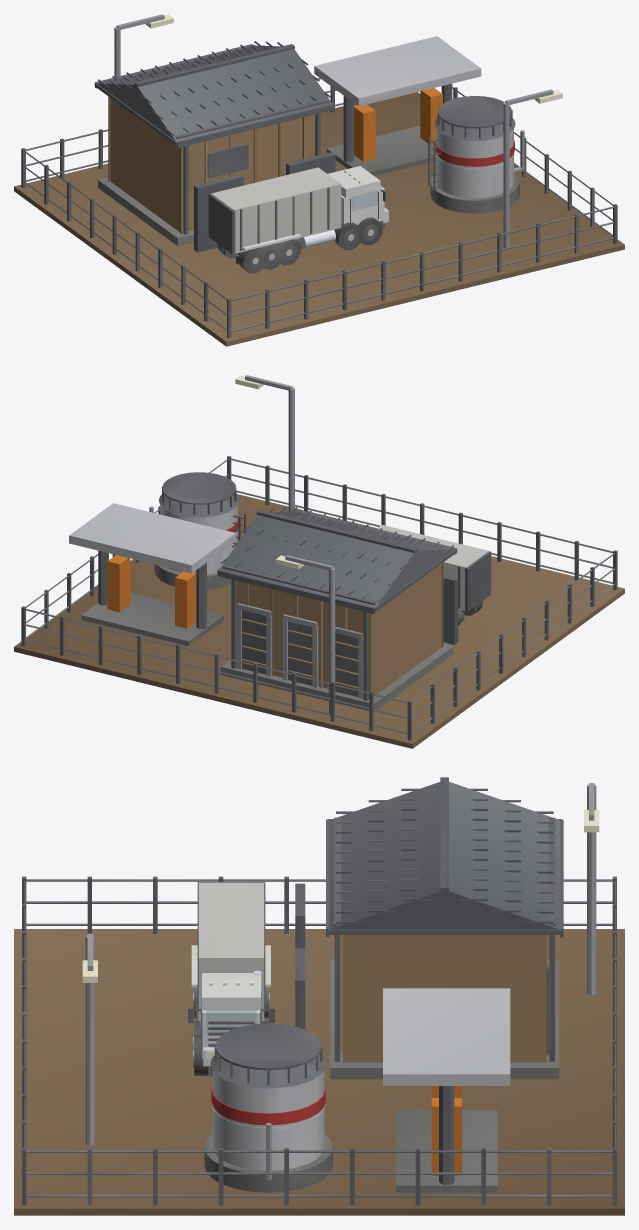
File: Fleet_P1.fbx
3 views of the same model, one above another, from view 1: azimuth 30°, elevation 25°; view 2: azimuth 150°, elevation 25°; view 3: azimuth 270°, elevation 25° (orthographic). The views are drawn at different scales.
Parts seen in each view (by area): view 1: Fleet.Yard, Fleet.Garage, Fleet.Parked0, Fleet.FuelIsland, Fleet.Fence, Fleet.FuelTank, Fleet.Doors, Fleet.Lamp1, Fleet.Lamp0; view 2: Fleet.Garage, Fleet.Yard, Fleet.FuelIsland, Fleet.Fence, Fleet.FuelTank, Fleet.Parked0, Fleet.Lamp0, Fleet.Lamp1, Fleet.Doors; view 3: Fleet.Yard, Fleet.Garage, Fleet.FuelIsland, Fleet.FuelTank, Fleet.Fence, Fleet.Parked0, Fleet.Lamp1, Fleet.Lamp0, Fleet.Doors.
Boxes of the visible parts, box(x1,y1,x2,y2) form: Fleet.Yard: box(14, 92, 624, 346); Fleet.Garage: box(94, 41, 334, 246); Fleet.Parked0: box(208, 166, 388, 273); Fleet.FuelIsland: box(314, 36, 481, 175); Fleet.Fence: box(21, 77, 617, 338); Fleet.FuelTank: box(428, 96, 524, 213); Fleet.Doors: box(194, 152, 335, 252); Fleet.Lamp1: box(503, 89, 562, 248); Fleet.Lamp0: box(114, 14, 173, 77); Fleet.Garage: box(217, 507, 457, 711); Fleet.Yard: box(14, 494, 624, 748); Fleet.FuelIsland: box(69, 503, 235, 646); Fleet.Fence: box(21, 456, 617, 740); Fleet.FuelTank: box(149, 472, 246, 589); Fleet.Parked0: box(377, 525, 491, 625); Fleet.Lamp0: box(275, 555, 335, 713); Fleet.Lamp1: box(235, 375, 294, 511); Fleet.Doors: box(443, 575, 458, 644); Fleet.Yard: box(14, 929, 624, 1215); Fleet.Garage: box(326, 777, 563, 1079); Fleet.FuelIsland: box(383, 988, 510, 1192); Fleet.FuelTank: box(204, 1023, 332, 1192); Fleet.Fence: box(22, 876, 616, 1205); Fleet.Parked0: box(188, 882, 274, 1076); Fleet.Lamp1: box(82, 933, 97, 1145); Fleet.Lamp0: box(584, 783, 599, 995); Fleet.Doors: box(295, 883, 305, 1029).
Bounding box in the file's own units: 2600 × 942 × 2400.
